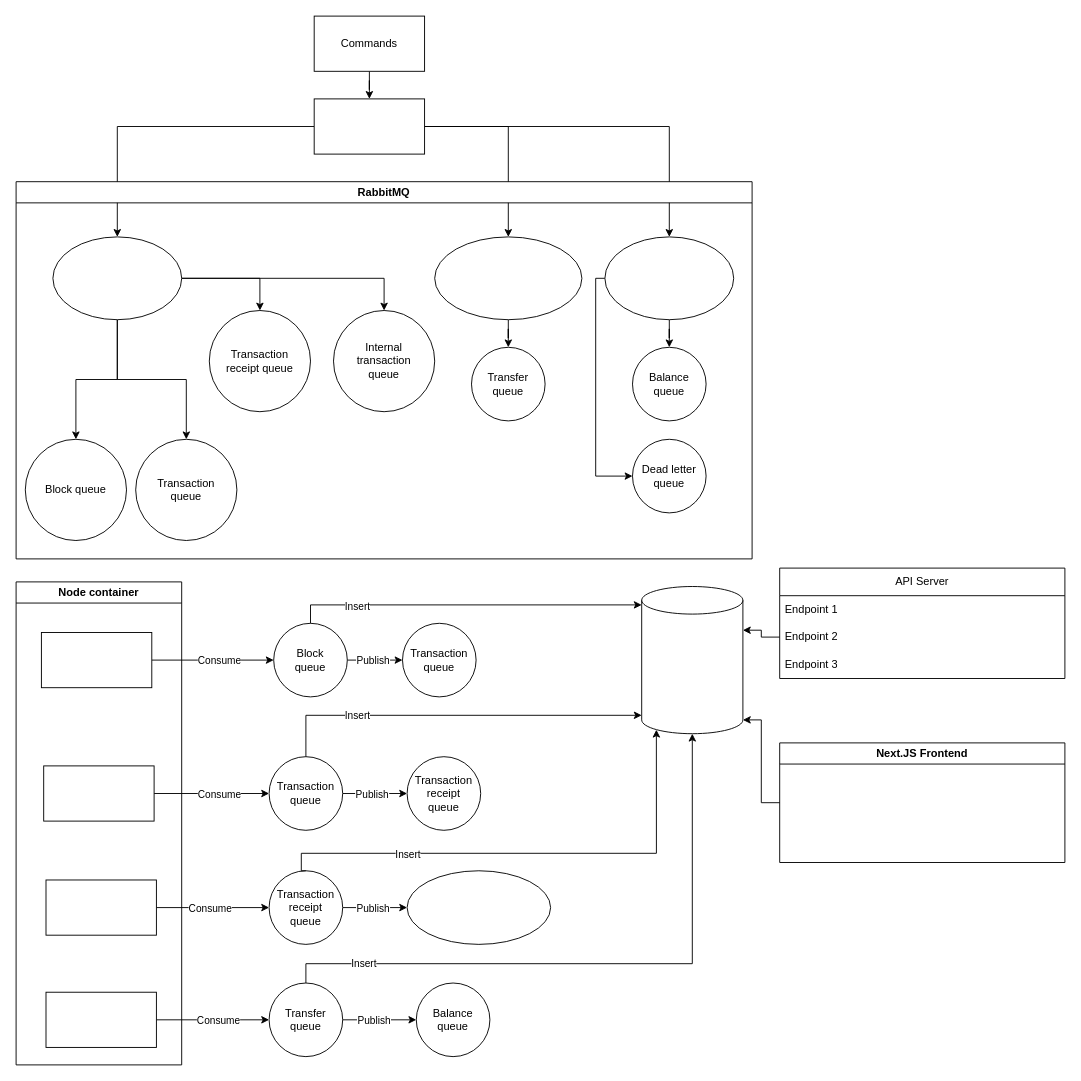
The diagram is 1081 pixels wide and 1081 high, and some of its shapes have lost their labels. The shapes that lost their labels are listed below. From the top down, each one's centre as x and y in pixels, then its label:
At (x=369, y=126): "Producer".
At (x=117, y=278): "Crawler exchange (direct)".
At (x=508, y=278): "Aggregator exchange (fanout)".
At (x=669, y=278): "Default exchange".
At (x=96, y=660): "Block Consumer".
At (x=692, y=660): "Database".
At (x=98, y=793): "Transaction Consumer".
At (x=100, y=907): "Transaction Receipt Consumer".
At (x=478, y=907): "Aggregator exchange".
At (x=100, y=1019): "Transfer consumer".
